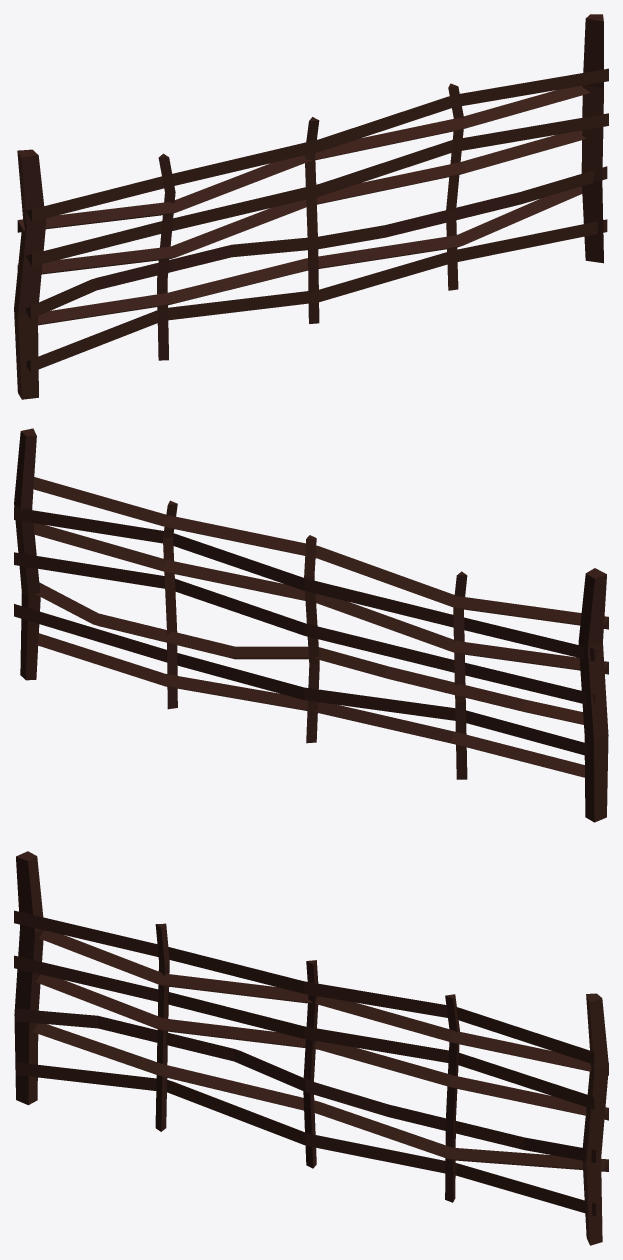
Rendered from 2m_StrongWattleFence.fbx.
The picture shows the model from 3 angles, top to bottom: view 1: azimuth 30°, elevation 25°; view 2: azimuth 150°, elevation 25°; view 3: azimuth 330°, elevation 25°; orthographic projection.
Parts seen in each view (by area): view 1: 2m_StrongWattleFence; view 2: 2m_StrongWattleFence; view 3: 2m_StrongWattleFence.
Boxes of the visible parts, <box> form: 2m_StrongWattleFence: <box>14,14,608,399</box>; 2m_StrongWattleFence: <box>14,428,608,822</box>; 2m_StrongWattleFence: <box>14,851,608,1245</box>.
Size of the model in its own units: 204 by 80.46 by 10.61.
